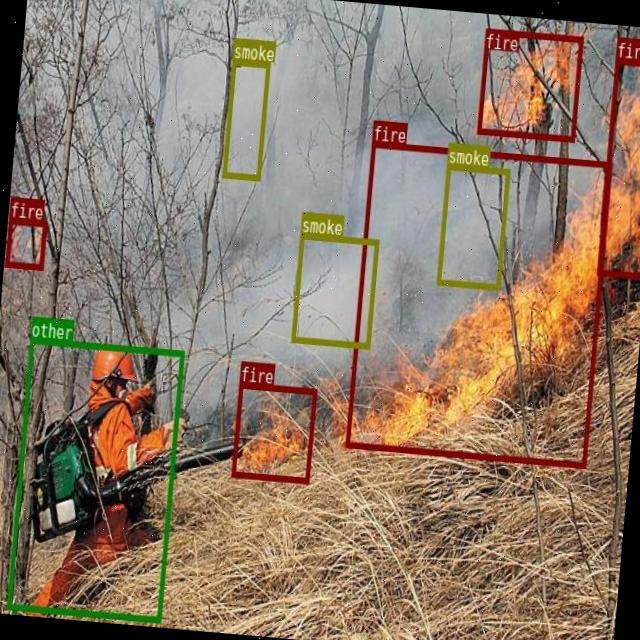fire: (345, 140, 612, 467), (475, 28, 583, 140), (596, 58, 640, 277), (230, 382, 316, 482), (4, 216, 46, 268)
smoke: (290, 232, 377, 347), (436, 164, 509, 288), (222, 58, 270, 179)
